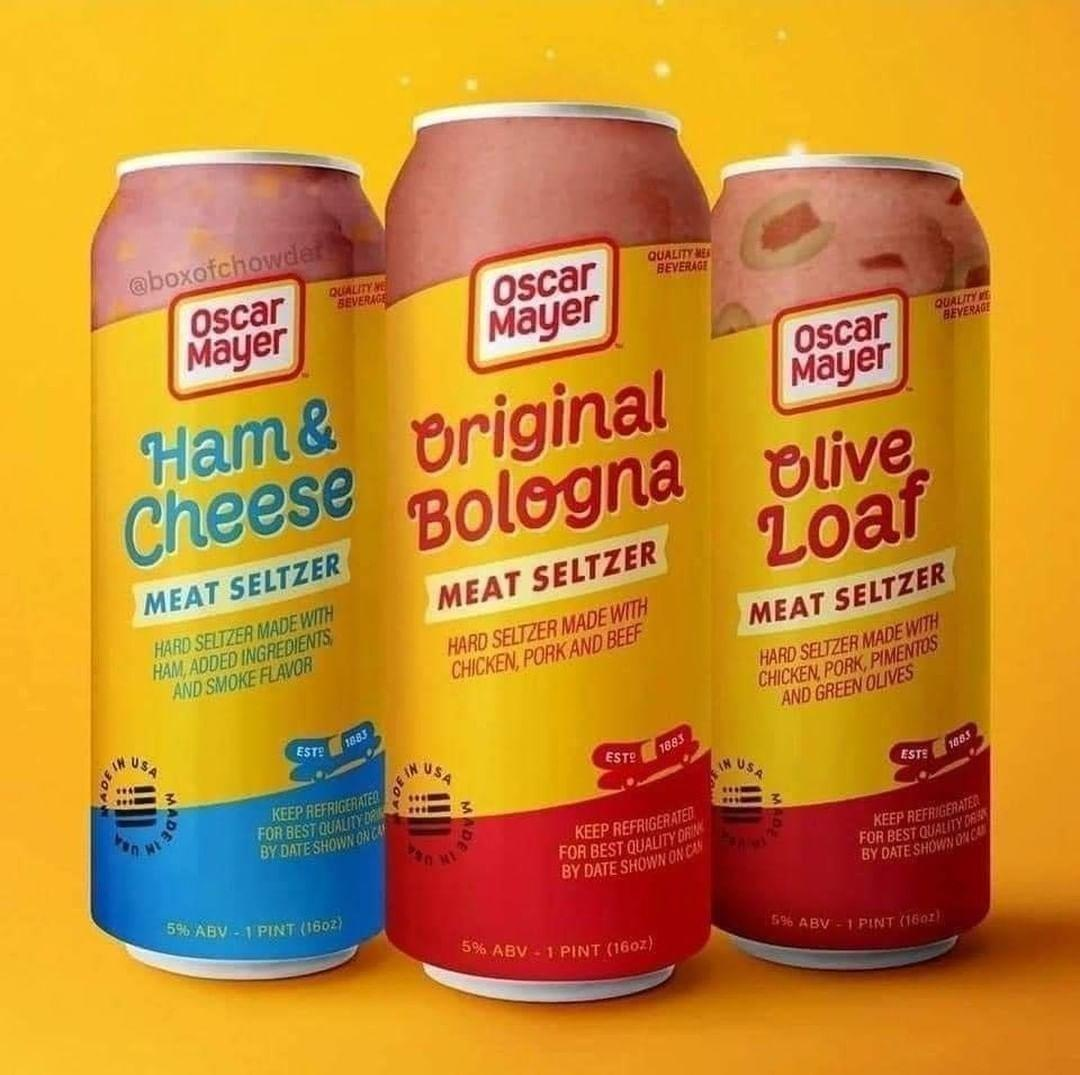tin can: (382, 95, 716, 1016), (76, 143, 400, 990), (711, 136, 1011, 981)
